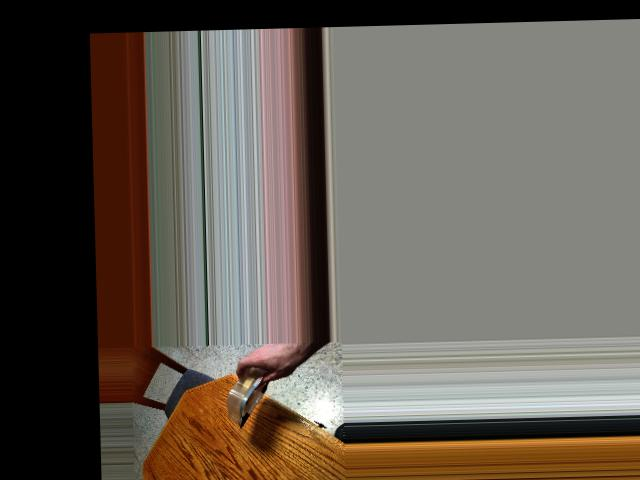cheese: (209, 352, 292, 415)
